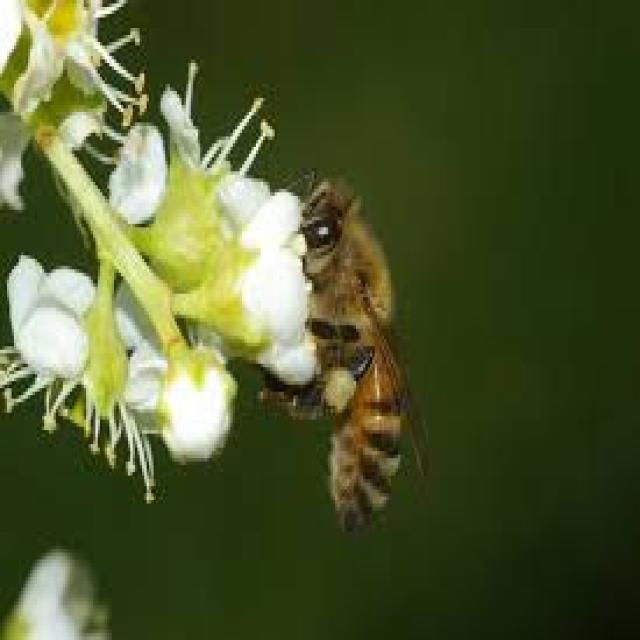Bees: (258, 169, 432, 536)
